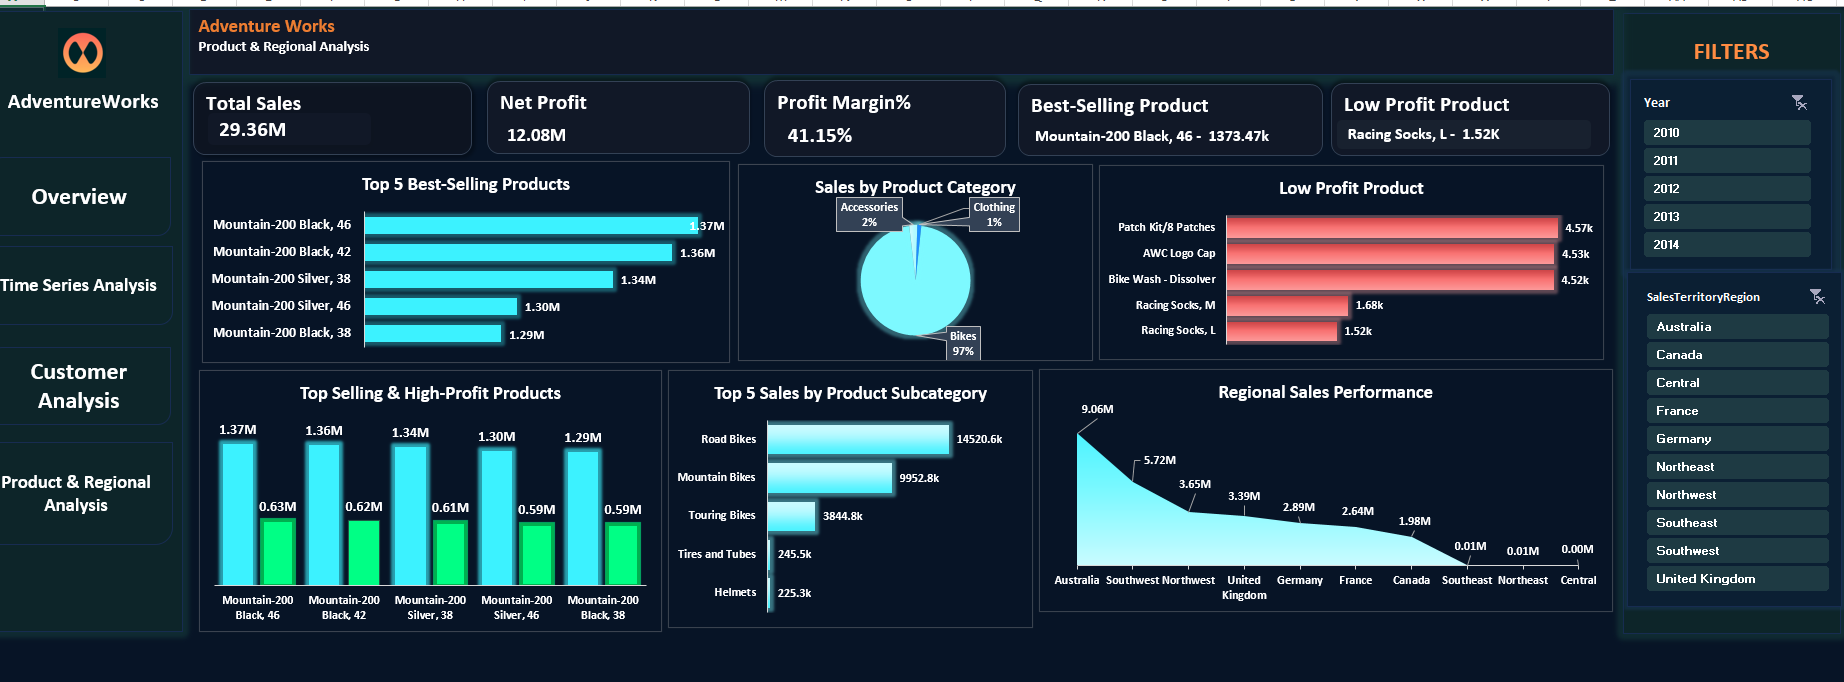

The dashboard page shown, as its layout file describes it:
{"tool":"tableau","page":{"name":"Product & Regional Analysis","canvas":[1000,1000],"units":"permille","ordinal":3},"visuals":[{"type":"dashboard-object","box":[4.7,9.1,70,108]},{"type":"text","box":[74.7,9.1,731.4,108]},{"type":"dashboard-object","box":[806.1,9.1,94.6,108]},{"type":"filter","title":"Regional Sales and Profit Performance","param":"[federated.0e6db3f146nowf1dx3vmm1ianpzm].[none:EnglishProductCategoryName:nk]","box":[892,18.6,97.8,63.9]},{"type":"filter","title":"Top-Selling and High-Profit Products","param":"[federated.0e6db3f146nowf1dx3vmm1ianpzm].[sum:Calculation_5284129741745233923:qk","box":[713.3,20.9,92.3,87.1]},{"type":"filter","title":"Top 6 Sales Performance by Product Category and Subcategory","param":"[federated.0e6db3f146nowf1dx3vmm1ianpzm].[yr:Calculation_5284129741743005696:ok]","box":[892,92.9,97.8,63.9]},{"type":"worksheet","title":"Total Sales","mark":"Automatic","box":[4.7,117.1,174.1,129.6]},{"type":"worksheet","title":"Total Quantity Sold","mark":"Automatic","box":[178.8,117.1,181.9,129.6]},{"type":"worksheet","title":"Profit","mark":"Automatic","box":[360.7,117.1,188.6,129.6]},{"type":"worksheet","title":"Profit Margin %","mark":"Automatic","box":[549.2,117.1,160.8,129.6]},{"type":"worksheet","title":"Loss-Making Products","mark":"Automatic","rows":["EnglishProductName"],"box":[710,117.1,181.9,129.6]},{"type":"image","param":"Image/profit11.png","box":[376,166.1,27.8,91.8]},{"type":"filter","title":"Regional Sales and Profit Performance","param":"[federated.0e6db3f146nowf1dx3vmm1ianpzm].[none:SalesTerritoryRegion:nk]","box":[892.6,174.2,97.8,63.9]},{"type":"image","param":"Image/profit margin.jpg","box":[553.4,182.3,40.4,54.6]},{"type":"image","param":"Image/sales.png","box":[5.4,185.8,47.1,55.8]},{"type":"worksheet","title":"Regional Sales and Profit Performance","mark":"Automatic","rows":["SalesTerritoryCountry"],"cols":["Calculation_5284129741743640577","Calculation_5284129741745233923"],"box":[4.7,246.7,495.6,403.3]},{"type":"worksheet","title":"Top-Selling and High-Profit Products","mark":"Circle","rows":["Calculation_5284129741743640577","Calculation_5284129741745233923"],"cols":["EnglishProductName"],"box":[500.3,246.7,495,403.3]},{"type":"legend","title":"Top-Selling and High-Profit Products","param":"[federated.0e6db3f146nowf1dx3vmm1ianpzm].[:Measure Names]","box":[902.2,398.4,84.5,74.3]},{"type":"worksheet","title":"Low-Profit and Loss-Making Products","mark":"Automatic","rows":["Calculation_5284129741745233923"],"cols":["EnglishProductName"],"box":[4.7,650,495.3,340.9]},{"type":"worksheet","title":"Top 6 Sales Performance by Product Category and Subcategory","mark":"Automatic","rows":["EnglishProductSubcategoryName"],"cols":["Calculation_5284129741743640577"],"box":[500,650,495.3,340.9]},{"type":"legend","title":"Top 6 Sales Performance by Product Category and Subcategory","param":"[federated.0e6db3f146nowf1dx3vmm1ianpzm].[none:EnglishProductCategoryName:nk]","box":[902.8,881.5,84.5,98.7]}]}

Visuals, with their boxes on the dashboard's canvas, which has no fixed pixel size, in thousandths of its width and height (x1, y1, x2, y2). These are canvas units, not pixel positions in the 1844x682 screenshot, which may show the page scaled, cropped or inside an application window:
dashboard-object: (left=5, top=9, right=75, bottom=117)
text: (left=75, top=9, right=806, bottom=117)
dashboard-object: (left=806, top=9, right=901, bottom=117)
"Regional Sales and Profit Performance" filter: (left=892, top=19, right=990, bottom=82)
"Top-Selling and High-Profit Products" filter: (left=713, top=21, right=806, bottom=108)
"Top 6 Sales Performance by Product Category and Subcategory" filter: (left=892, top=93, right=990, bottom=157)
"Total Sales" worksheet: (left=5, top=117, right=179, bottom=247)
"Total Quantity Sold" worksheet: (left=179, top=117, right=361, bottom=247)
"Profit" worksheet: (left=361, top=117, right=549, bottom=247)
"Profit Margin %" worksheet: (left=549, top=117, right=710, bottom=247)
"Loss-Making Products" worksheet: (left=710, top=117, right=892, bottom=247)
image: (left=376, top=166, right=404, bottom=258)
"Regional Sales and Profit Performance" filter: (left=893, top=174, right=990, bottom=238)
image: (left=553, top=182, right=594, bottom=237)
image: (left=5, top=186, right=52, bottom=242)
"Regional Sales and Profit Performance" worksheet: (left=5, top=247, right=500, bottom=650)
"Top-Selling and High-Profit Products" worksheet (Circle marks): (left=500, top=247, right=995, bottom=650)
"Top-Selling and High-Profit Products" legend: (left=902, top=398, right=987, bottom=473)
"Low-Profit and Loss-Making Products" worksheet: (left=5, top=650, right=500, bottom=991)
"Top 6 Sales Performance by Product Category and Subcategory" worksheet: (left=500, top=650, right=995, bottom=991)
"Top 6 Sales Performance by Product Category and Subcategory" legend: (left=903, top=882, right=987, bottom=980)
